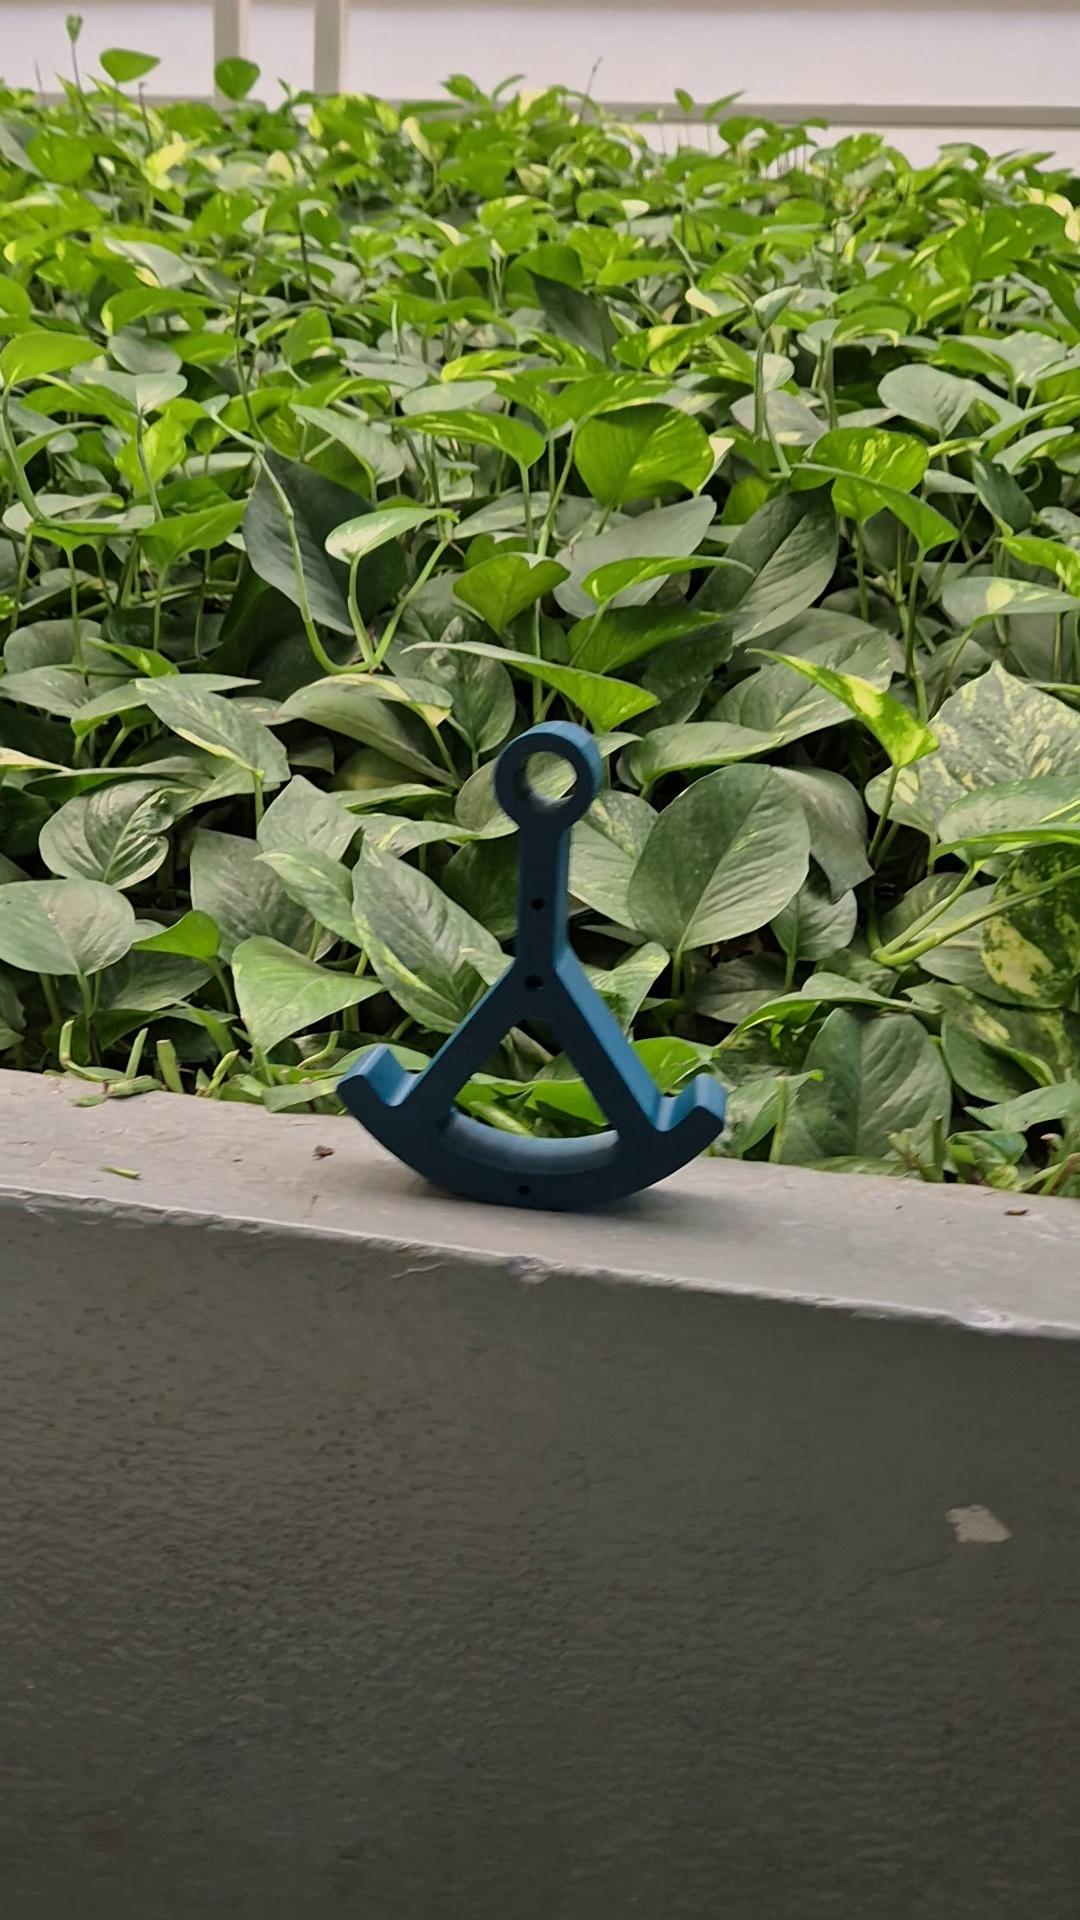Paddles: (334, 717, 729, 1215)
